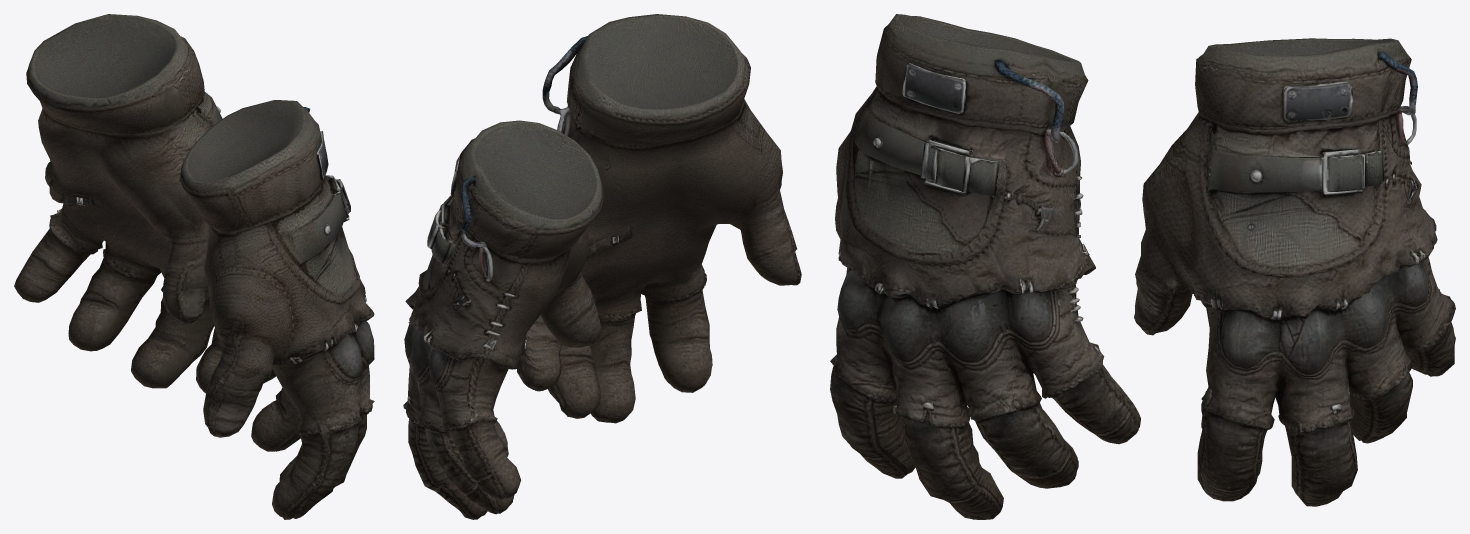
Rendered from glove.glb.
3 renders of one model, left to right at view 1: azimuth 30°, elevation 25°; view 2: azimuth 150°, elevation 25°; view 3: azimuth 270°, elevation 25°, orthographic. The views are drawn at different scales.
Visible parts, largest first — view 1: Object_5; view 2: Object_5; view 3: Object_5.
Boxes of the visible parts, x1,y1,x2,y2 form: Object_5: (14,14,374,519); Object_5: (403,14,801,519); Object_5: (830,14,1455,519).
Size of the model in its own units: 0.4863 by 0.8341 by 0.998.
1 material, 1 textured.
